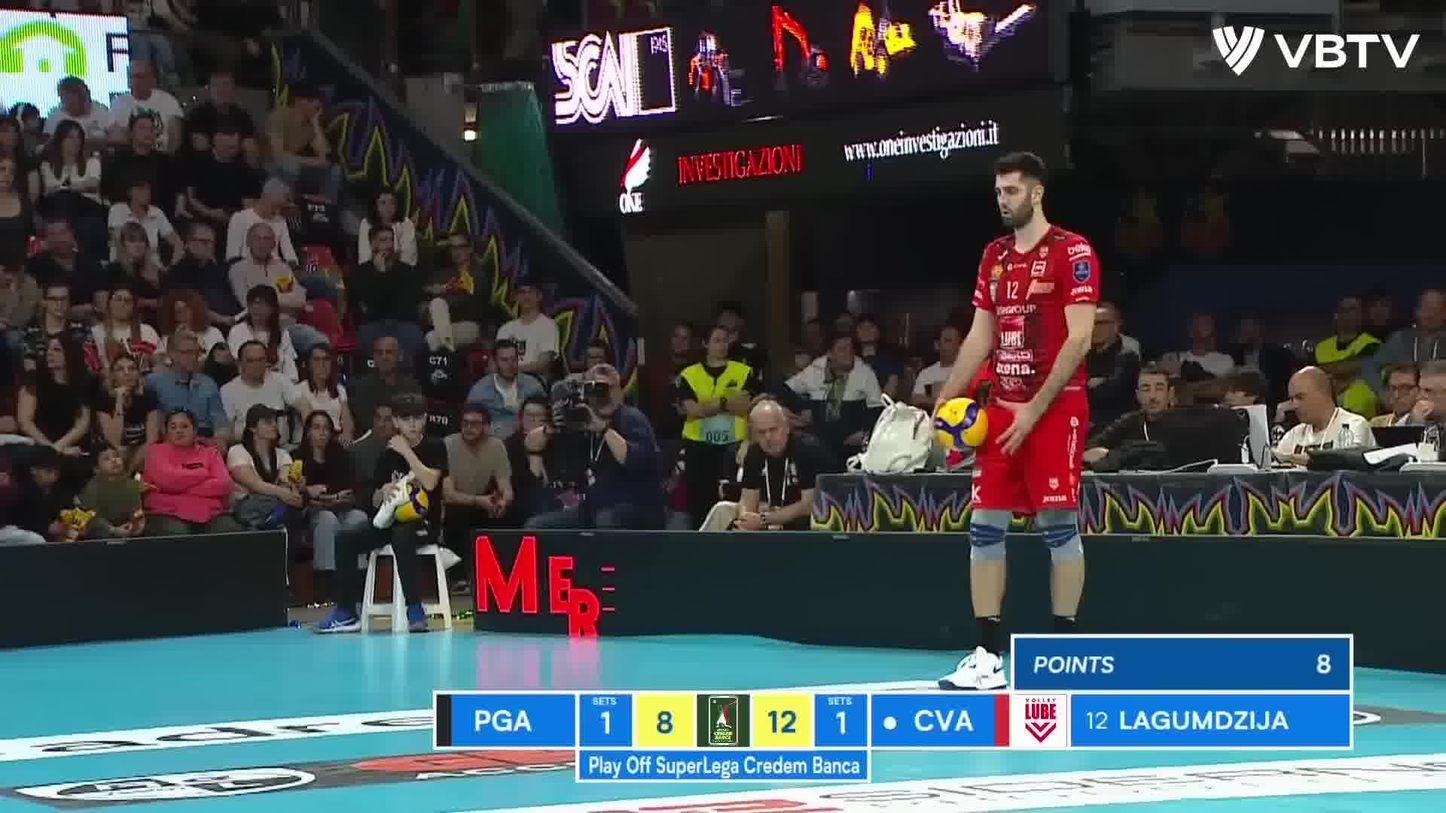balls: (928, 395, 993, 453)
